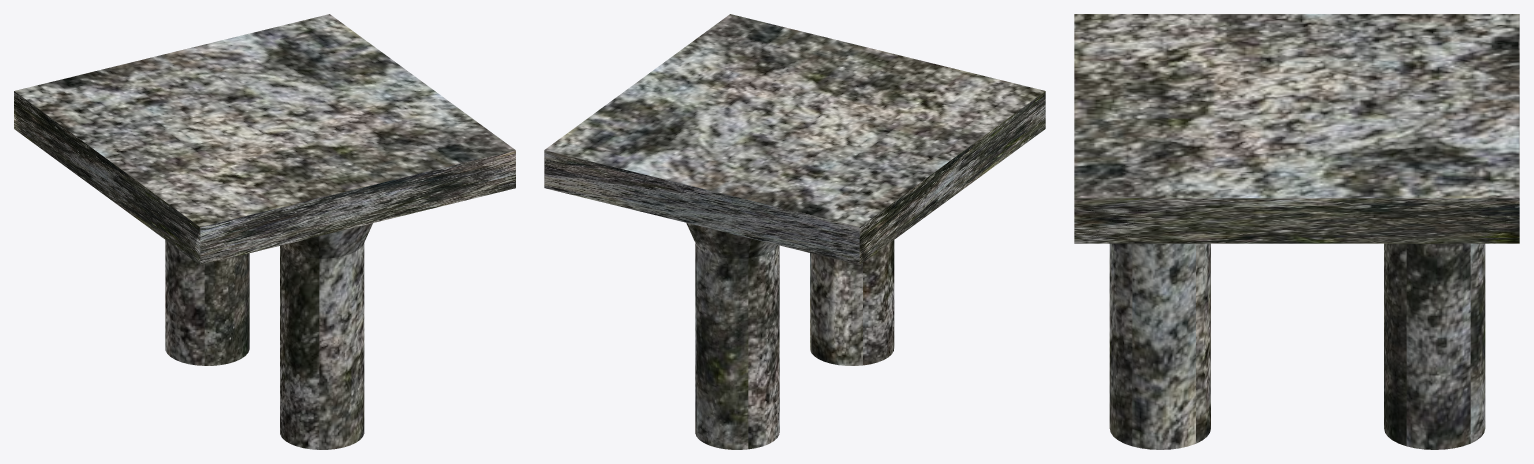
The model's file is no bevel text fix.fbx.
3 renders of one model, left to right at view 1: azimuth 30°, elevation 25°; view 2: azimuth 150°, elevation 25°; view 3: azimuth 270°, elevation 25°, orthographic. The views are drawn at different scales.
Parts seen in each view (by area): view 1: Cube.001, Cylinder.002; view 2: Cube.001, Cylinder.002; view 3: Cube.001, Cylinder.002.
Boxes of the visible parts, bbox=[...] form: Cube.001: bbox=[14, 14, 515, 265]; Cylinder.002: bbox=[165, 223, 372, 449]; Cube.001: bbox=[544, 14, 1045, 264]; Cylinder.002: bbox=[686, 223, 894, 449]; Cube.001: bbox=[1074, 14, 1519, 243]; Cylinder.002: bbox=[1109, 243, 1485, 449].
Size of the model in its own units: 1512 by 1234 by 1544.
Materials: 1 (1 with a texture image).
